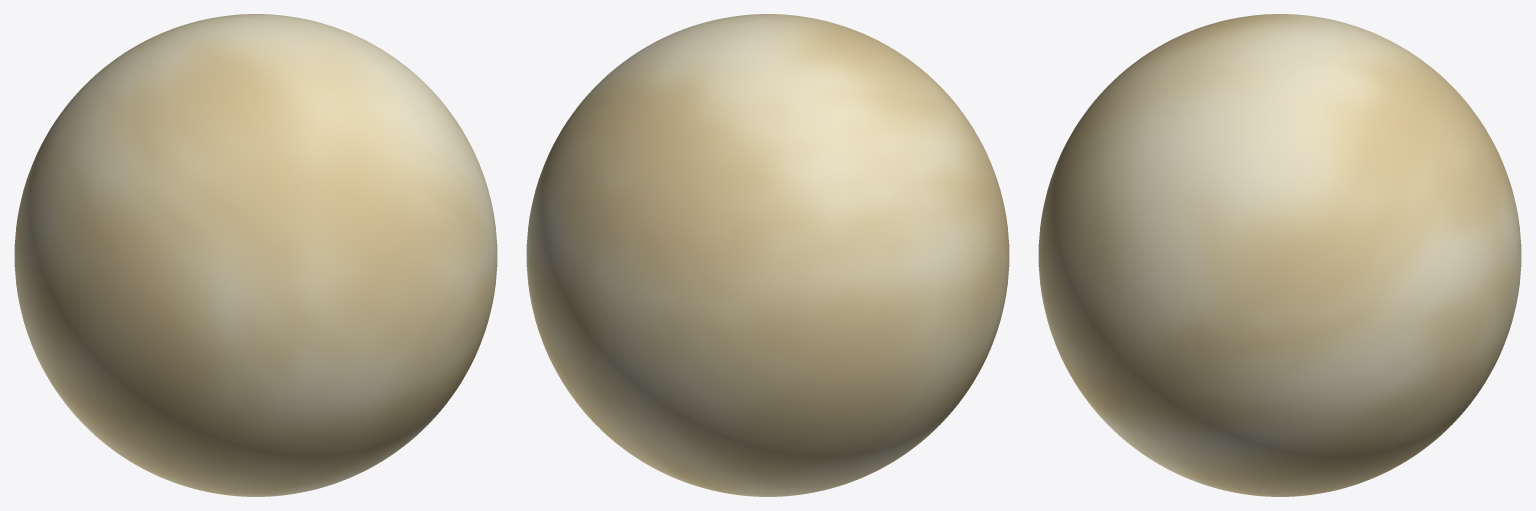
File: venus.glb
3 views of the same model, side by side, from view 1: azimuth 30°, elevation 25°; view 2: azimuth 150°, elevation 25°; view 3: azimuth 270°, elevation 25° (orthographic).
Parts seen in each view (by area): view 1: model; view 2: model; view 3: model.
Boxes of the visible parts, left/top/right/bottom form: model: left=14, top=14, right=497, bottom=496; model: left=526, top=14, right=1009, bottom=496; model: left=1038, top=14, right=1521, bottom=496.
Bounding box in the file's own units: 2 × 2 × 2.
Materials: 1 (1 with a texture image).
